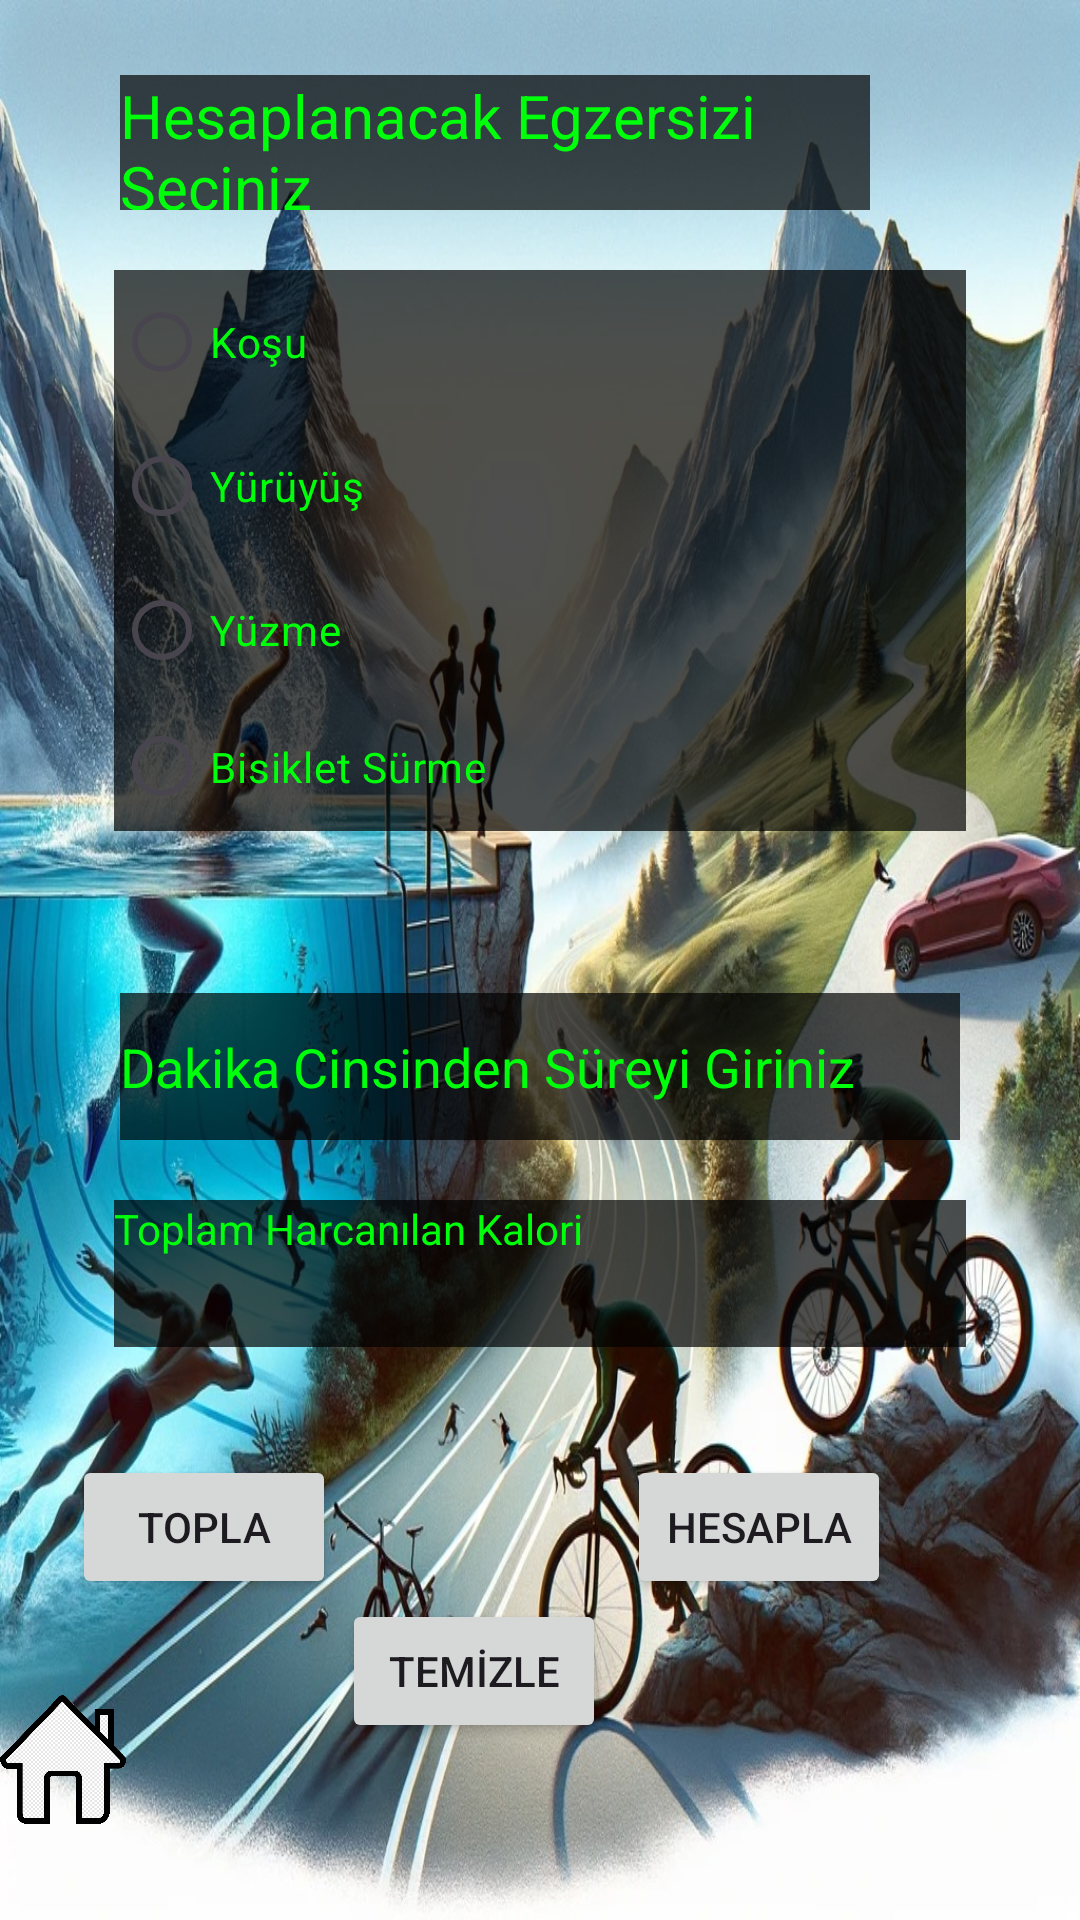

Screen size 1080x1920. Icon name, then its center in pixels as (x=x, y=y):
home: (x=63, y=1759)
